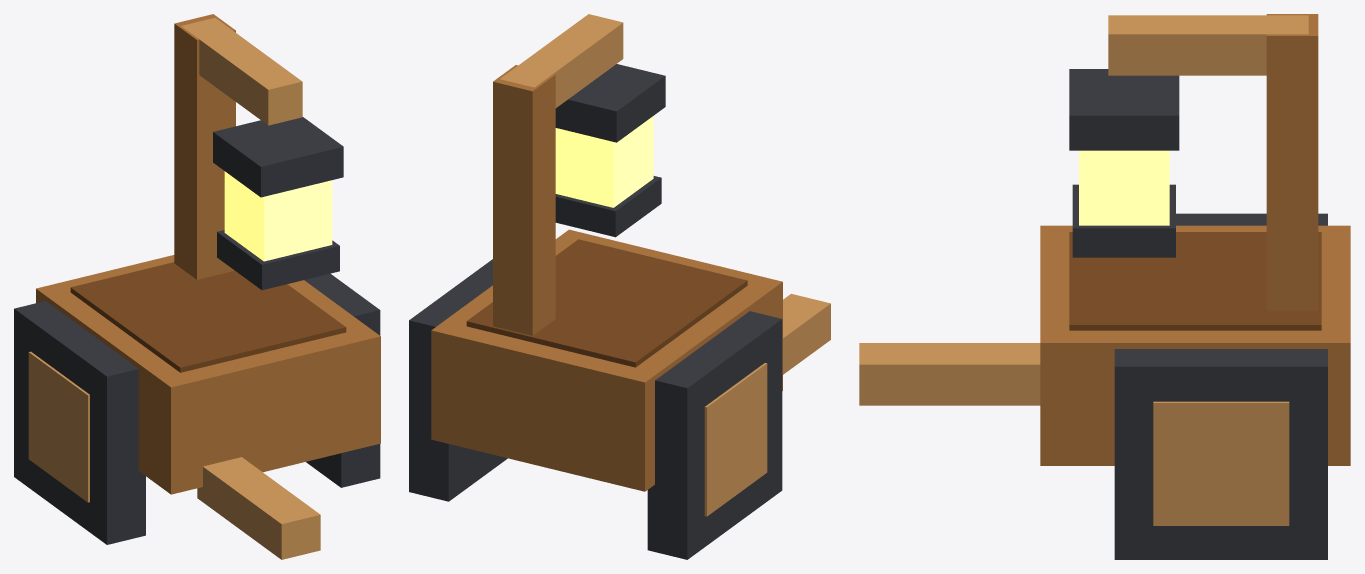
The model's file is machine-lantern.glb.
The picture shows the model from 3 angles, left to right: view 1: azimuth 30°, elevation 25°; view 2: azimuth 150°, elevation 25°; view 3: azimuth 270°, elevation 25°; orthographic projection. The views are drawn at different scales.
Visible parts, largest first — view 1: Cart bed, Wheel, Cart hollow, Mast, Cap, Tongue, Glass, Hub, Arm, Wheel.001, Bottom; view 2: Cart bed, Wheel, Cart hollow, Mast, Wheel.001, Hub, Glass, Cap, Arm, Bottom, Tongue; view 3: Wheel.001, Cart bed, Cart hollow, Hub.001, Mast, Tongue, Arm, Cap, Glass, Bottom, Wheel.
Boxes of the visible parts, x1=… form: Cart bed: x1=36, y1=255, x2=380, y2=494; Wheel: x1=14, y1=301, x2=145, y2=544; Cart hollow: x1=70, y1=262, x2=346, y2=372; Mast: x1=174, y1=14, x2=235, y2=279; Cap: x1=213, y1=117, x2=343, y2=197; Tongue: x1=197, y1=457, x2=320, y2=559; Glass: x1=224, y1=171, x2=332, y2=261; Hub: x1=28, y1=351, x2=89, y2=502; Arm: x1=181, y1=18, x2=302, y2=125; Wheel.001: x1=304, y1=273, x2=380, y2=487; Bottom: x1=217, y1=230, x2=339, y2=290; Cart bed: x1=431, y1=229, x2=782, y2=491; Wheel: x1=647, y1=311, x2=782, y2=559; Cart hollow: x1=466, y1=239, x2=747, y2=367; Mast: x1=493, y1=65, x2=555, y2=335; Wheel.001: x1=409, y1=259, x2=507, y2=501; Hub: x1=704, y1=363, x2=767, y2=516; Glass: x1=555, y1=116, x2=653, y2=207; Cap: x1=555, y1=64, x2=665, y2=142; Arm: x1=500, y1=14, x2=623, y2=107; Bottom: x1=555, y1=176, x2=661, y2=237; Tongue: x1=783, y1=293, x2=830, y2=374; Wheel.001: x1=1114, y1=349, x2=1327, y2=559; Cart bed: x1=1040, y1=225, x2=1350, y2=465; Cart hollow: x1=1069, y1=232, x2=1321, y2=330; Hub.001: x1=1153, y1=401, x2=1289, y2=525; Mast: x1=1266, y1=14, x2=1318, y2=311; Tongue: x1=859, y1=343, x2=1040, y2=405; Arm: x1=1108, y1=15, x2=1308, y2=75; Cap: x1=1069, y1=69, x2=1179, y2=150; Glass: x1=1079, y1=150, x2=1169, y2=225; Bottom: x1=1072, y1=184, x2=1175, y2=257; Wheel: x1=1176, y1=213, x2=1327, y2=225.
Size of the model in its own units: 1.14 by 1.64 by 1.52.
